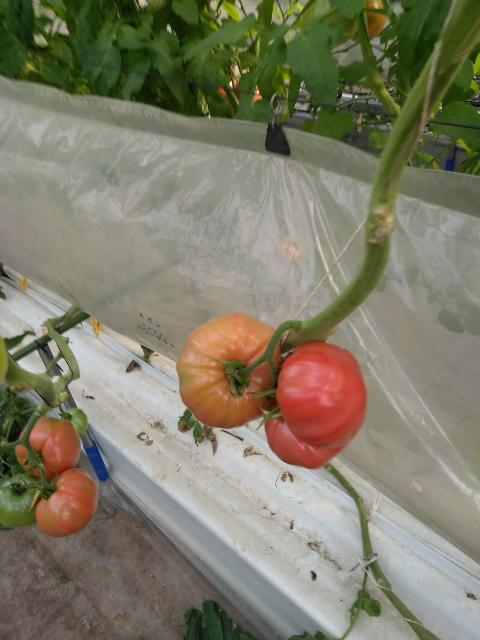b_fully_ripened: (263, 340, 368, 469)
b_green: (0, 474, 50, 528), (57, 408, 88, 437)
b_half_ripened: (175, 312, 281, 429), (35, 467, 99, 537), (15, 417, 81, 479)
